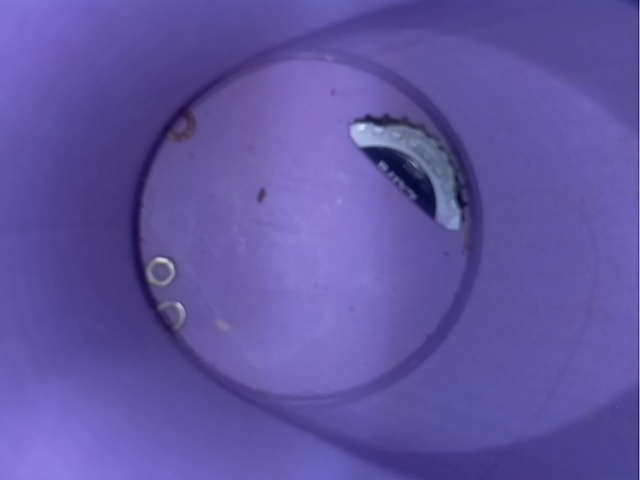capsule: (338, 101, 477, 249)
